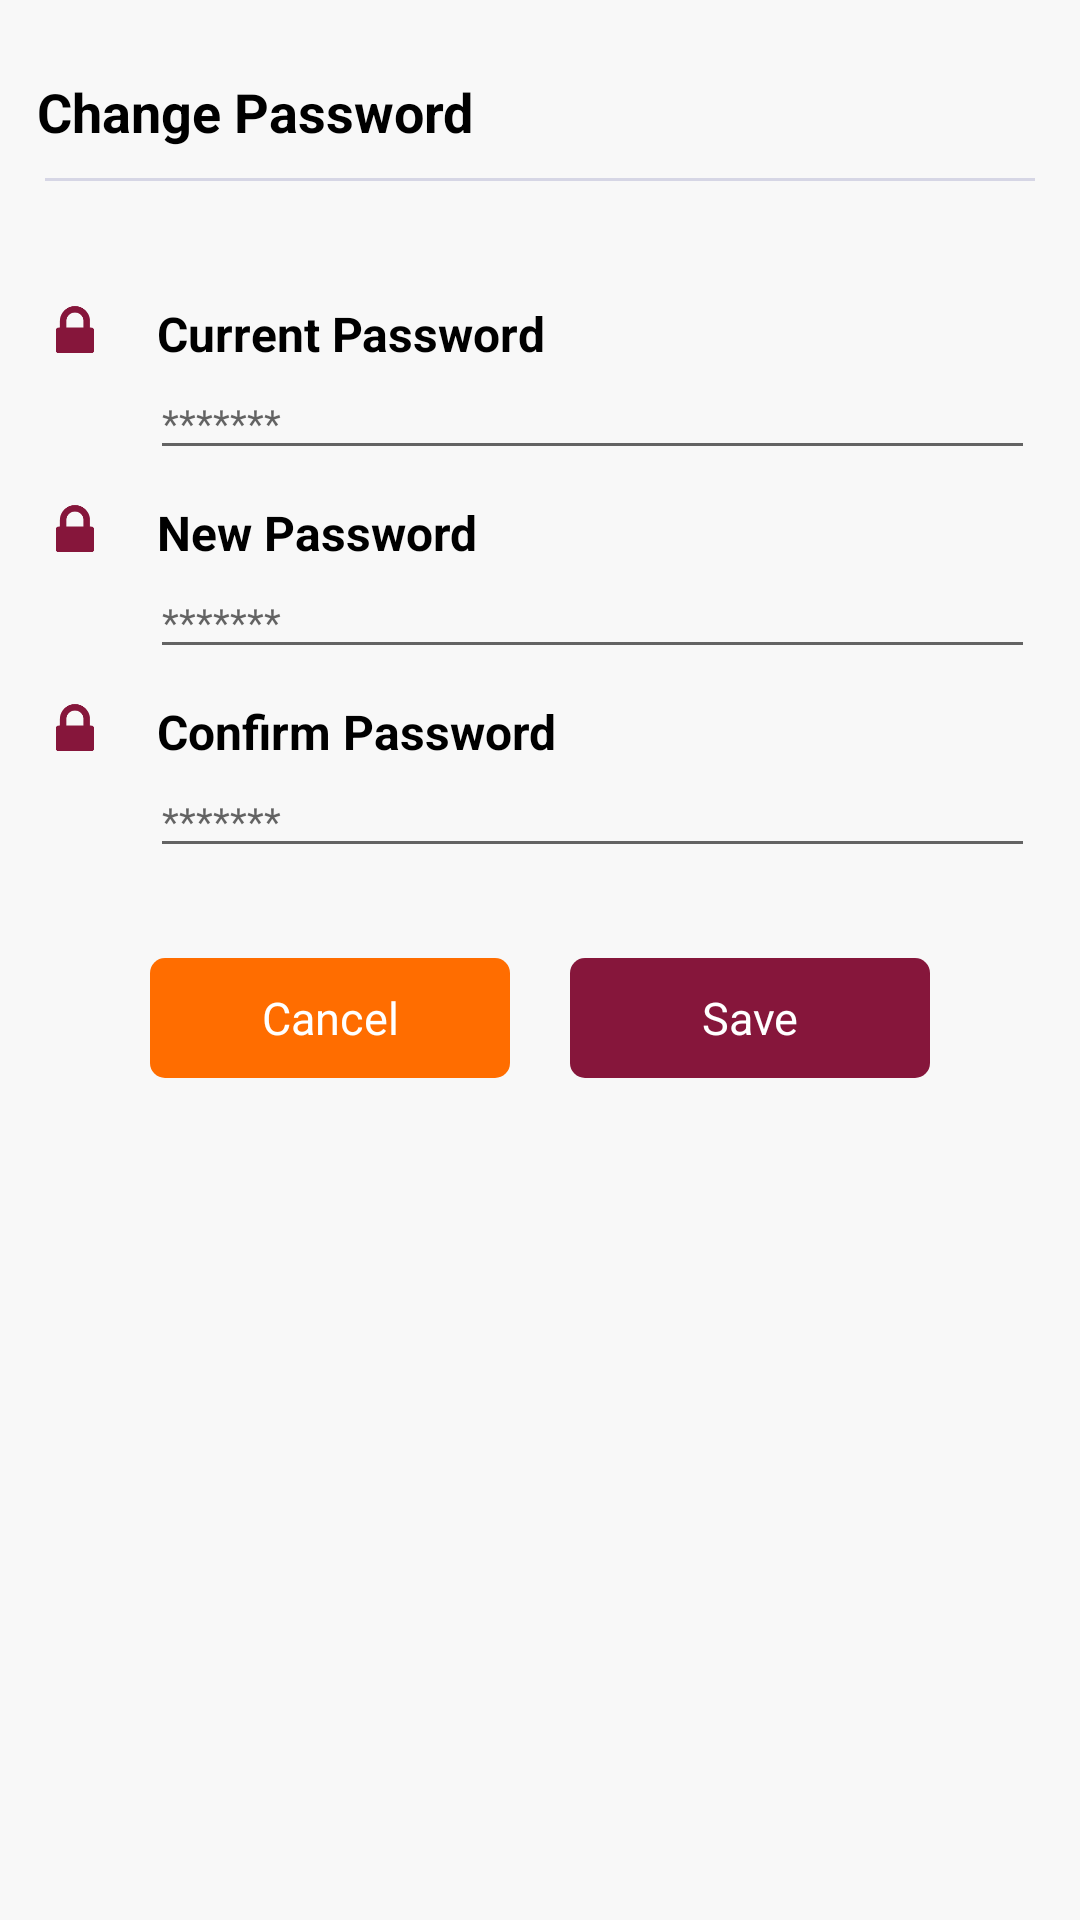

Icon click points for this 1080px x 1920px phone screenshot, format (x=x, y=y):
passwordd: (x=75, y=329), (x=75, y=528), (x=75, y=727)
